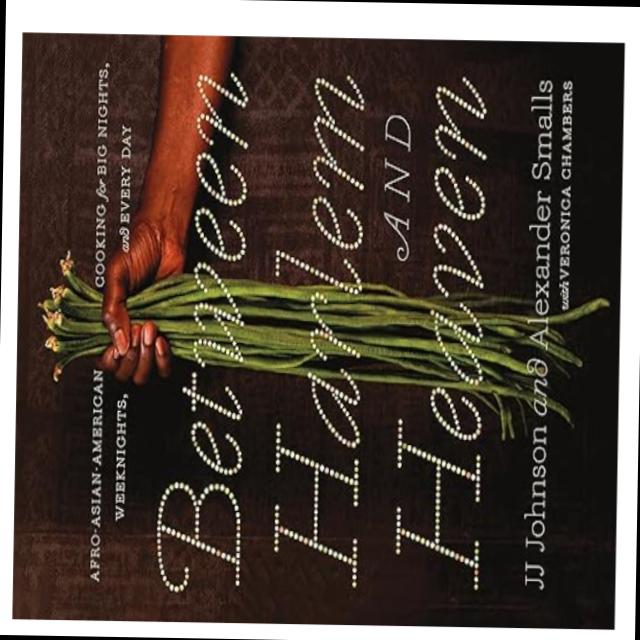titles-or-authors: (146, 48, 502, 606), (516, 66, 558, 600)
